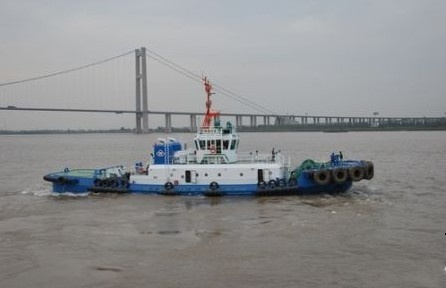otherboat: (44, 75, 376, 199)
